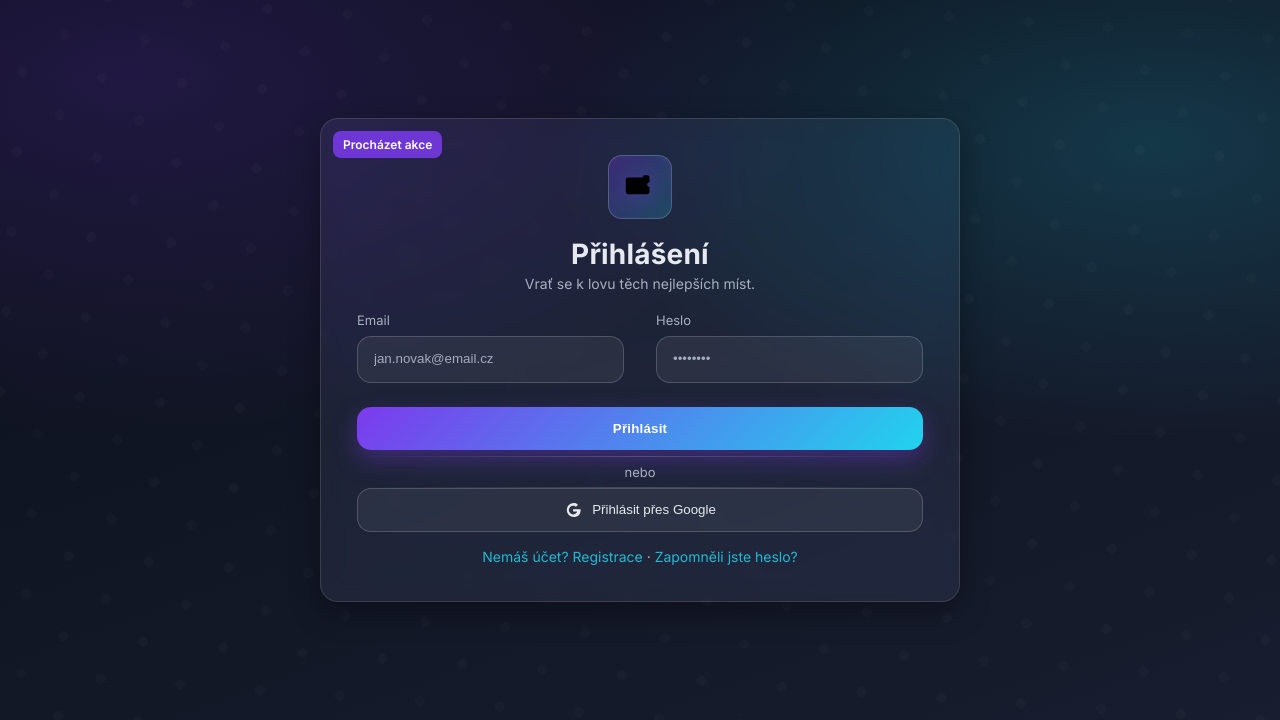
Testování přihlášení › Zobrazení chyby při špatném hesle
Type "test@user.com" into the field labelled "Email".
click(491, 360); type("test@user.com")  # box [357, 336, 624, 383]
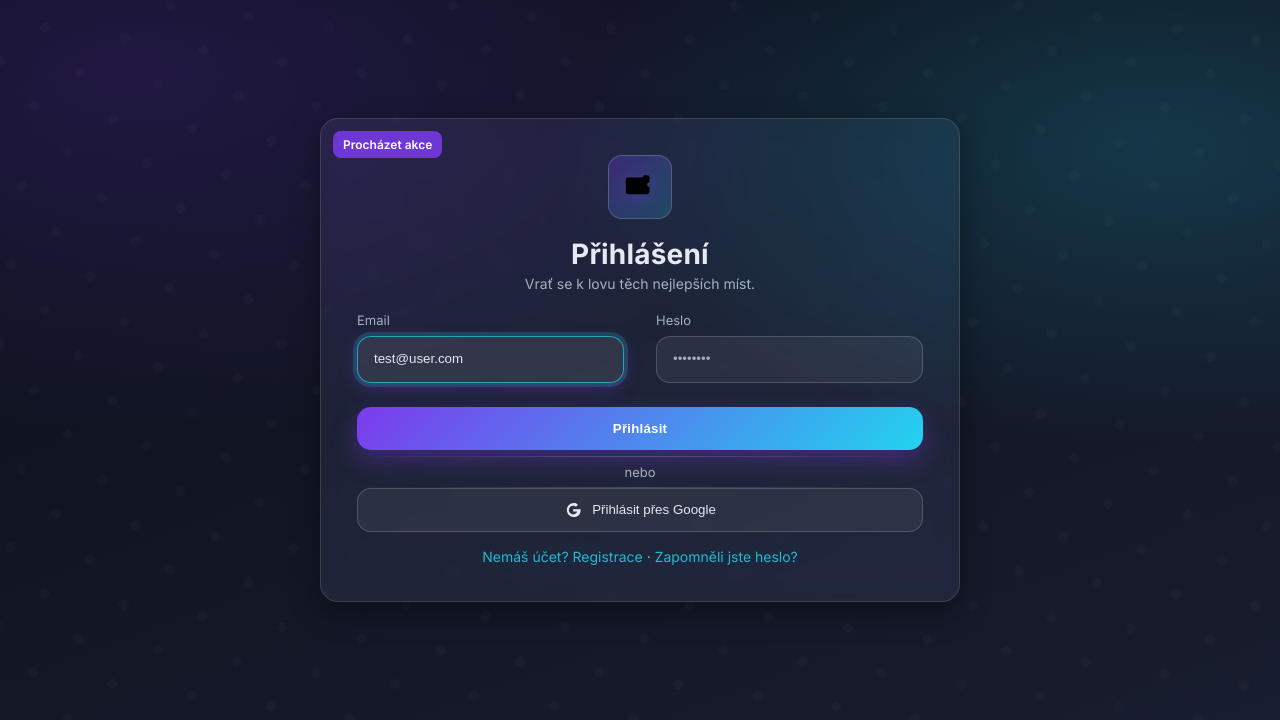
Type "spatneheslo" into the password field labelled "Heslo".
click(790, 360); type("spatneheslo")  # box [656, 336, 923, 383]
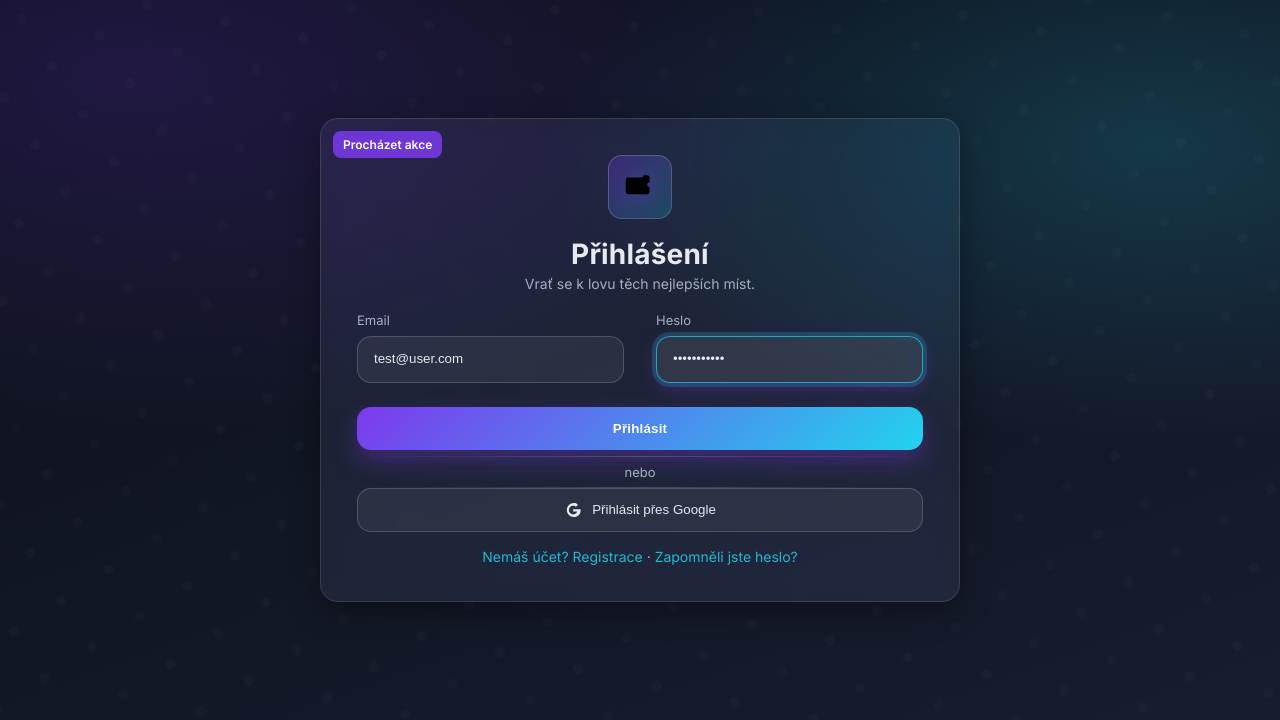
Click the submit button.
click(640, 429)  # box [357, 407, 923, 450]
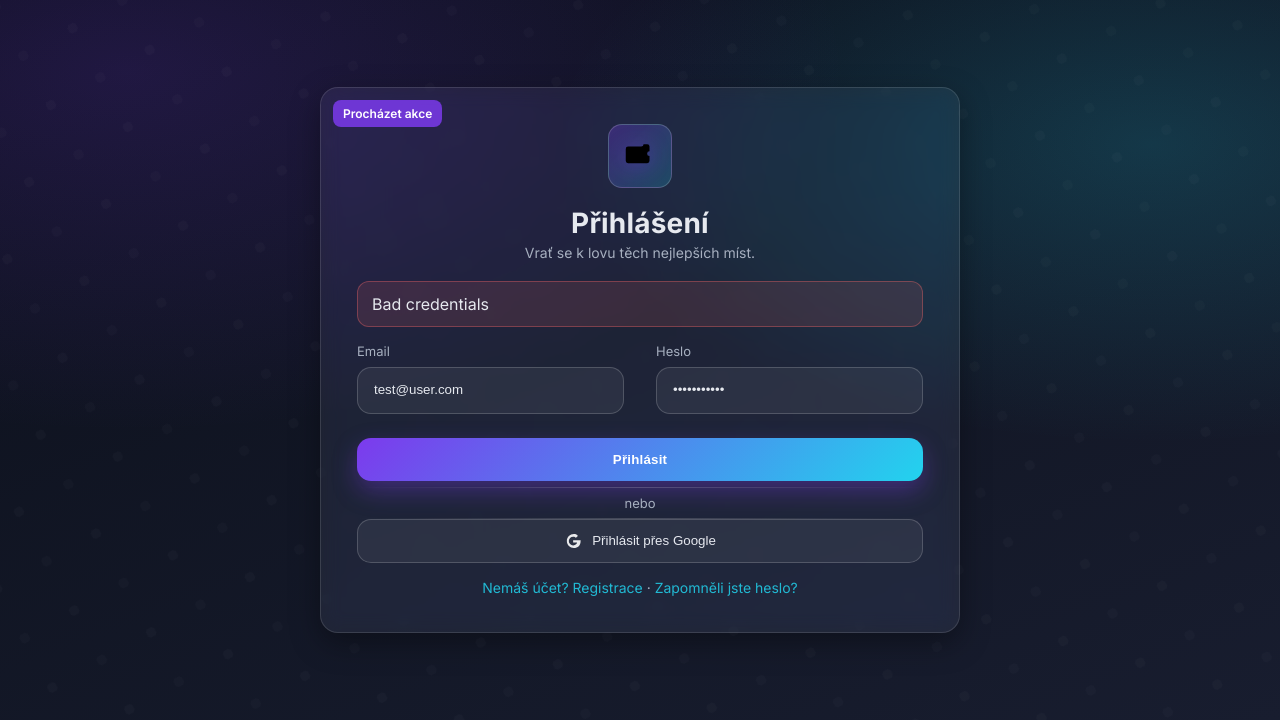
Result: the message "Bad credentials" is shown at [357, 281, 923, 327]
